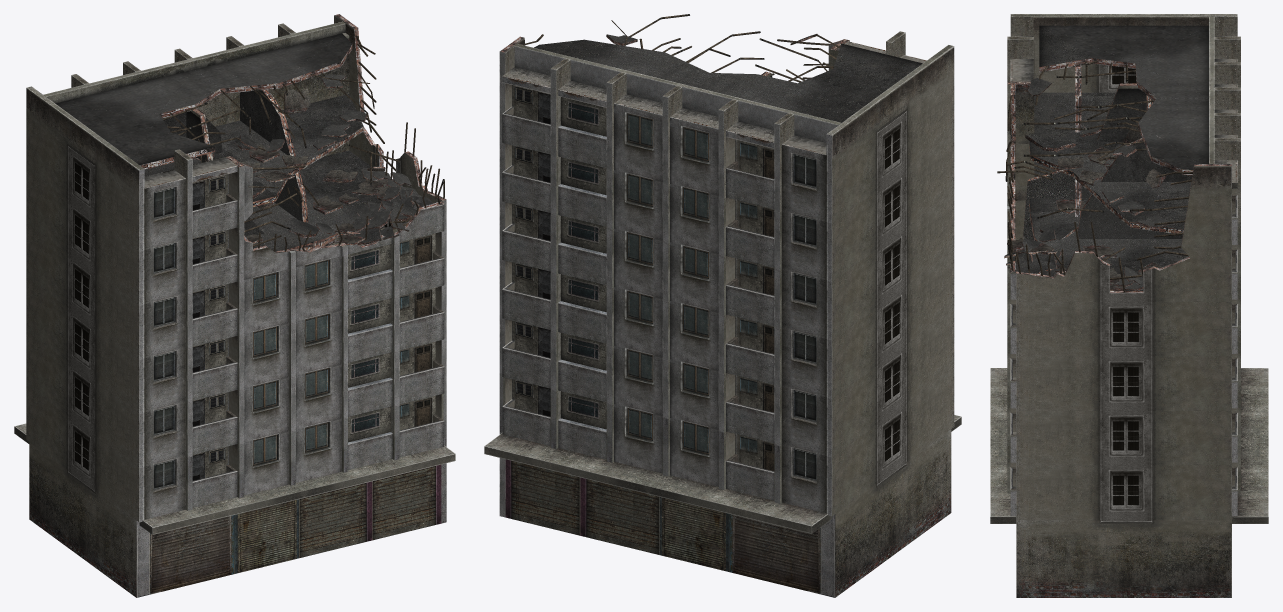
Rendered from buildings_06_ruin.FBX.
3 renders of one model, left to right at view 1: azimuth 30°, elevation 25°; view 2: azimuth 150°, elevation 25°; view 3: azimuth 270°, elevation 25°, orthographic. The views are drawn at different scales.
Visible parts, largest first — view 1: Object012; view 2: Object012; view 3: Object012.
Boxes of the visible parts, x1,y1,x2,y2 form: Object012: (14, 14, 455, 597); Object012: (484, 14, 961, 597); Object012: (990, 14, 1268, 597).
Size of the model in its own units: 1800 by 1392 by 2385.
1 material, 1 textured.
